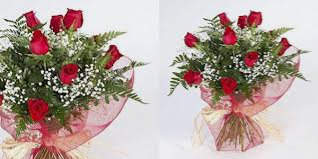RedRose: (24, 90, 51, 120), (64, 11, 93, 36), (29, 32, 57, 54), (214, 77, 238, 101), (178, 65, 201, 90), (104, 42, 122, 68), (47, 9, 65, 35), (60, 65, 80, 88), (219, 26, 240, 46), (277, 33, 291, 63), (180, 29, 200, 48), (242, 50, 264, 67), (18, 8, 38, 25), (249, 8, 262, 33), (214, 7, 228, 25), (233, 15, 248, 30)
